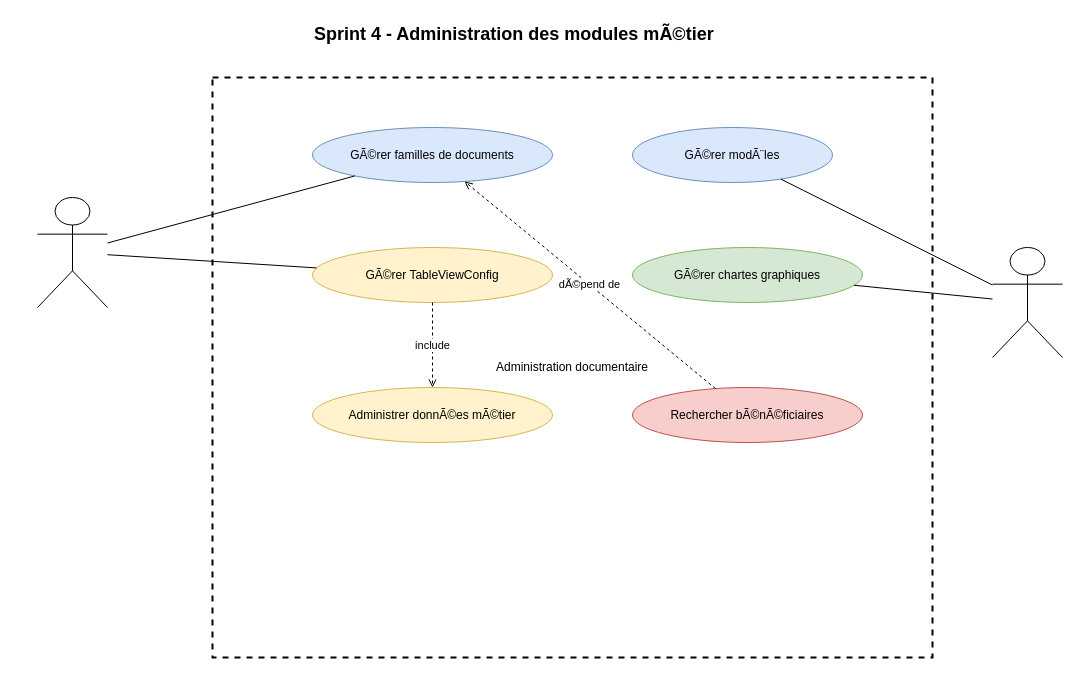
Image size: 1083x675. Some labels were removed from this diagram. The shapes that lost their labels are listed below. From the top down, each one's centre as x and y in pixels, then its label:
pixel 72 252: Super administrateur
pixel 1027 302: Administrateur
